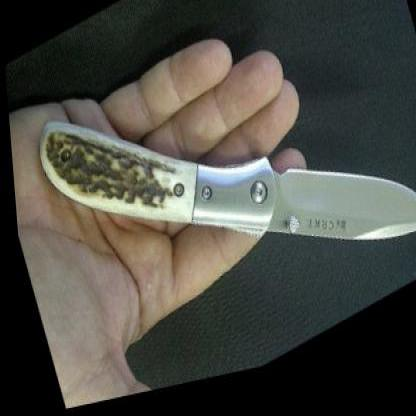knife: (148, 21, 415, 372)
